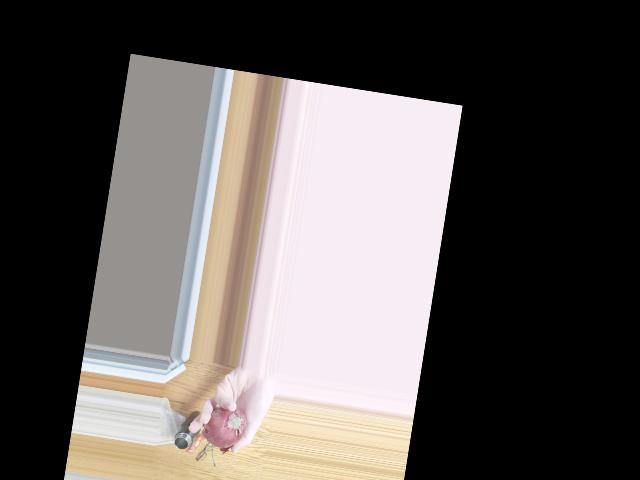onion: (207, 400, 252, 450)
